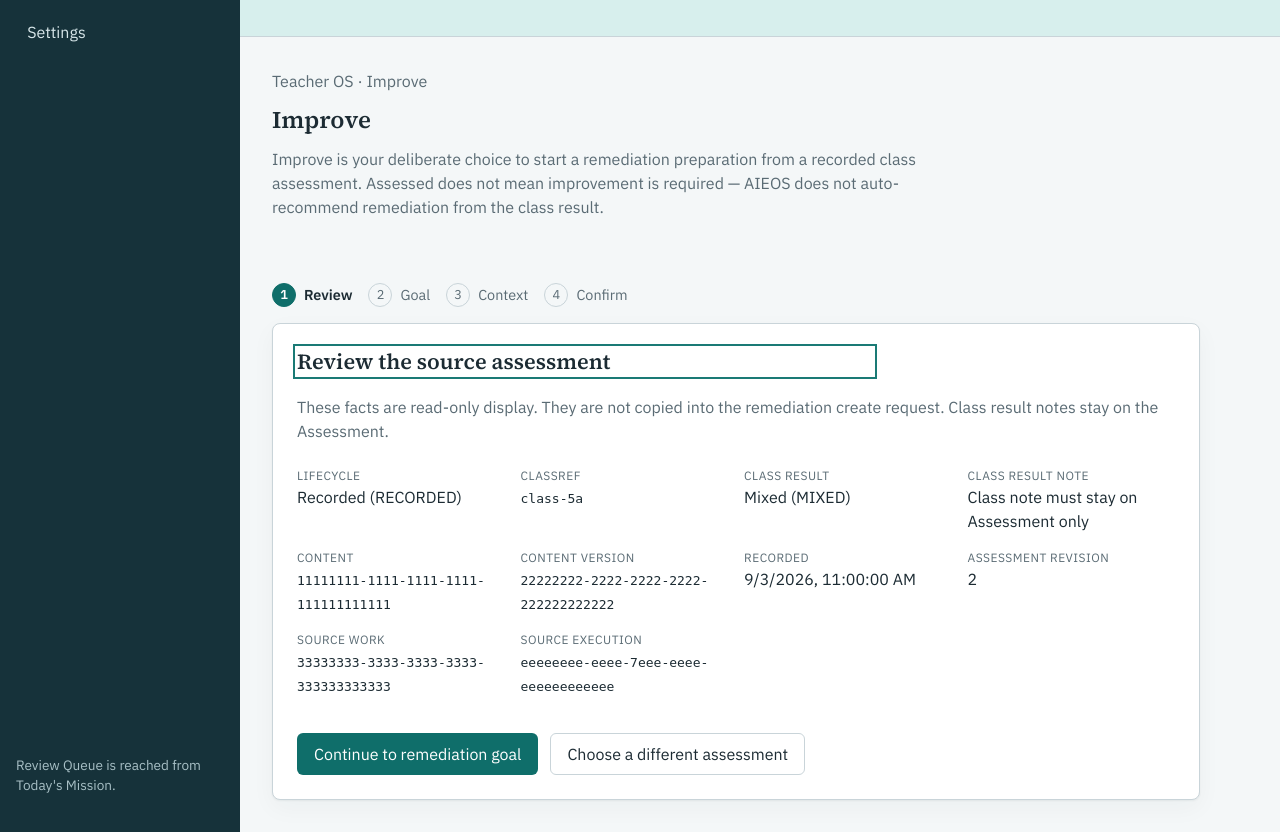
Test case: TOS-DEV09-I03 Improve page › requires teacher-confirmed goal
(page scrolled)
expect the heading "Review the source assessment" is shown: met, box [297,347,611,376]
Click the button "Continue to remediation goal". click: (418, 754)
box: [297,732,538,774]
(page scrolled)
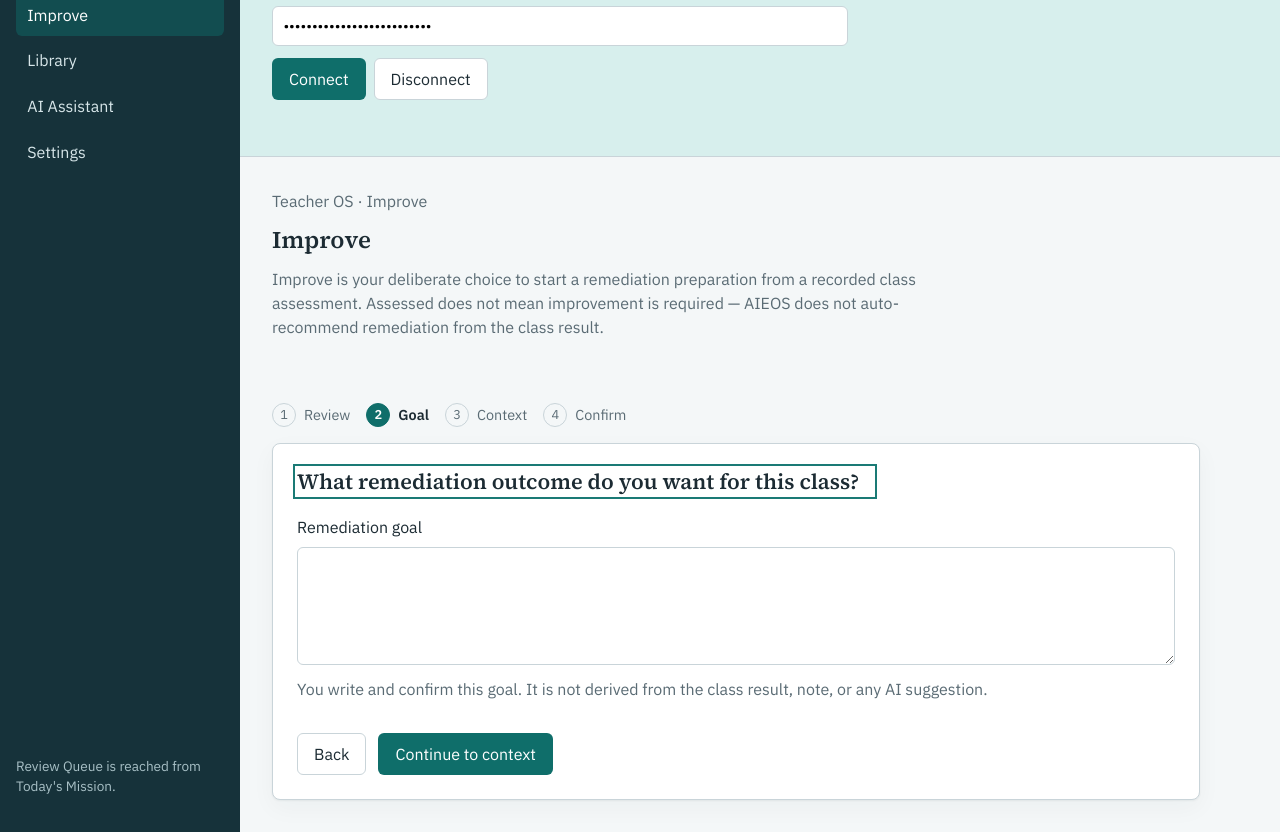
Click the button "Continue to context". click: (466, 754)
box: [378,733,553,775]
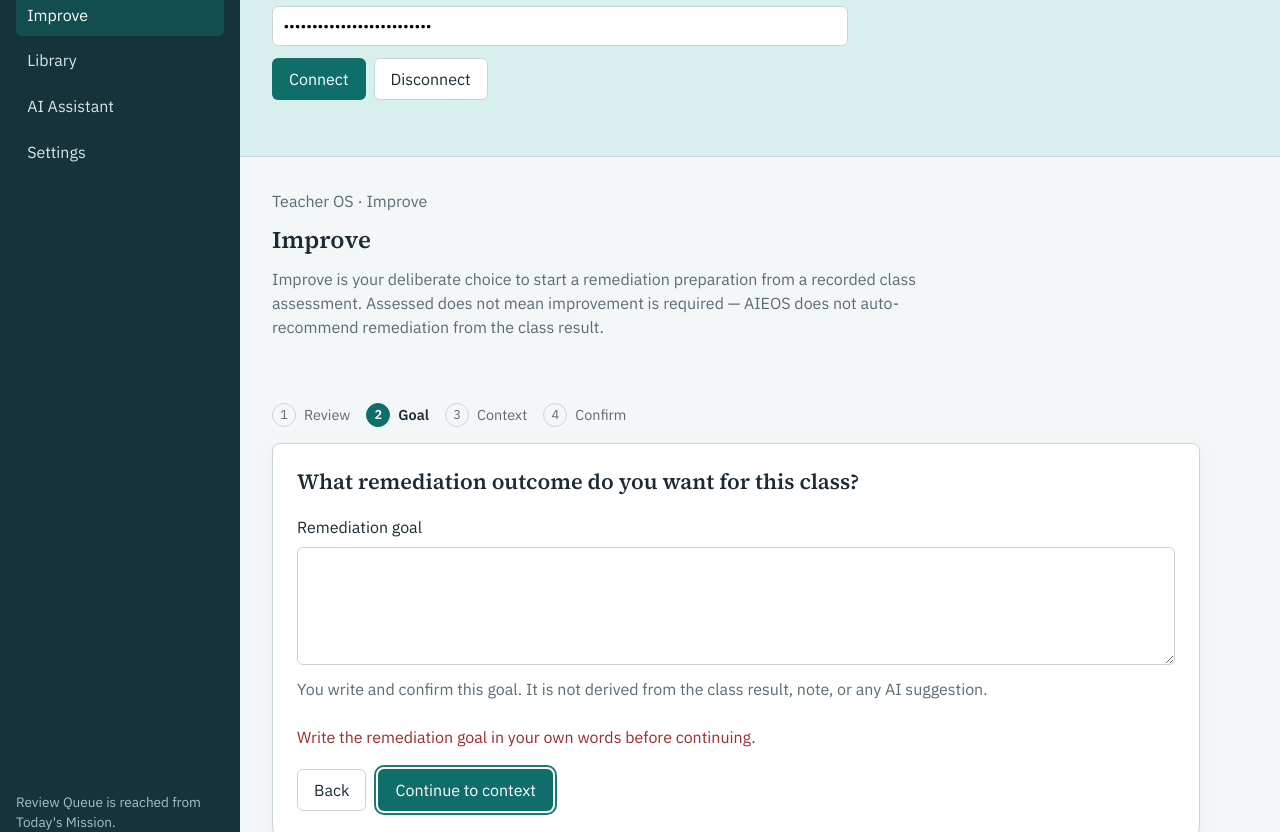
expect the text "Write the remediation goal in your own words before continuing." is shown: met, box [297,727,756,747]
